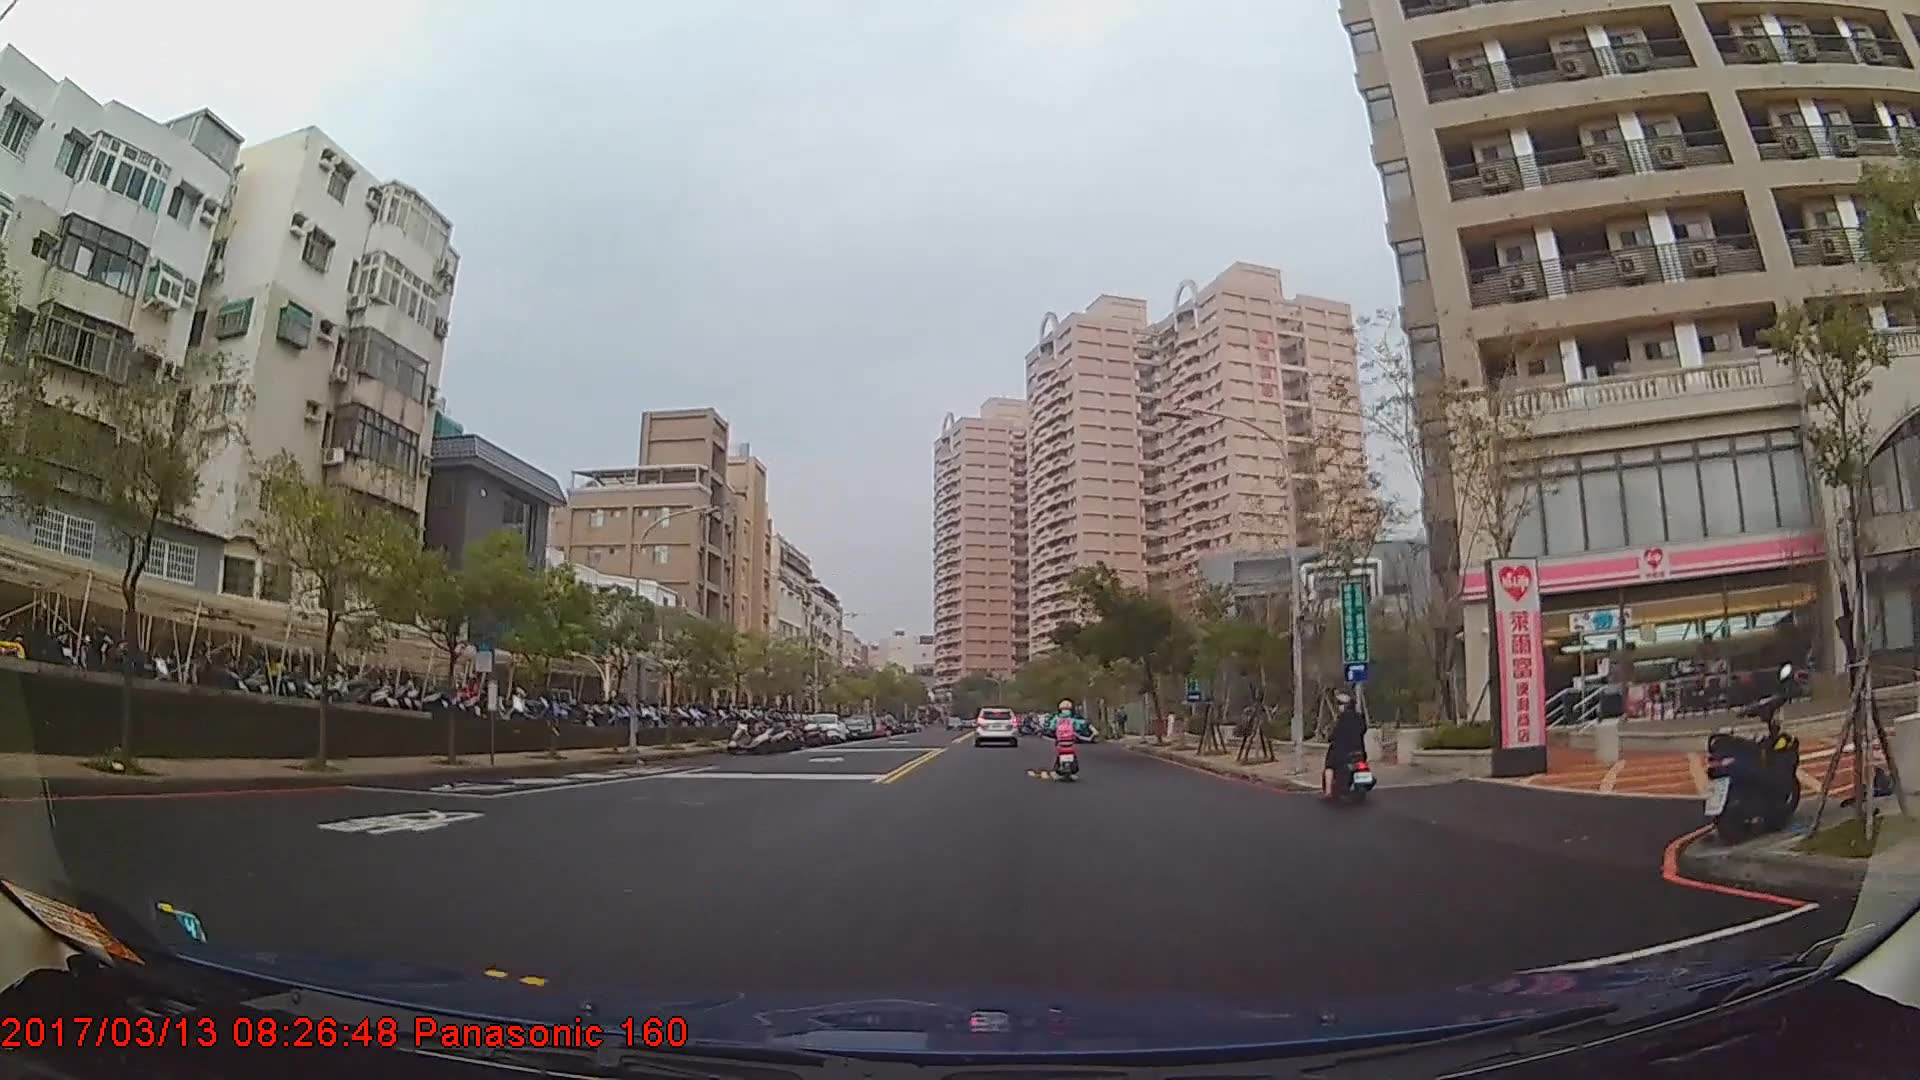rider: (1321, 690, 1379, 803), (1050, 699, 1087, 781)
vehicle: (969, 706, 1020, 745), (801, 714, 843, 744)
